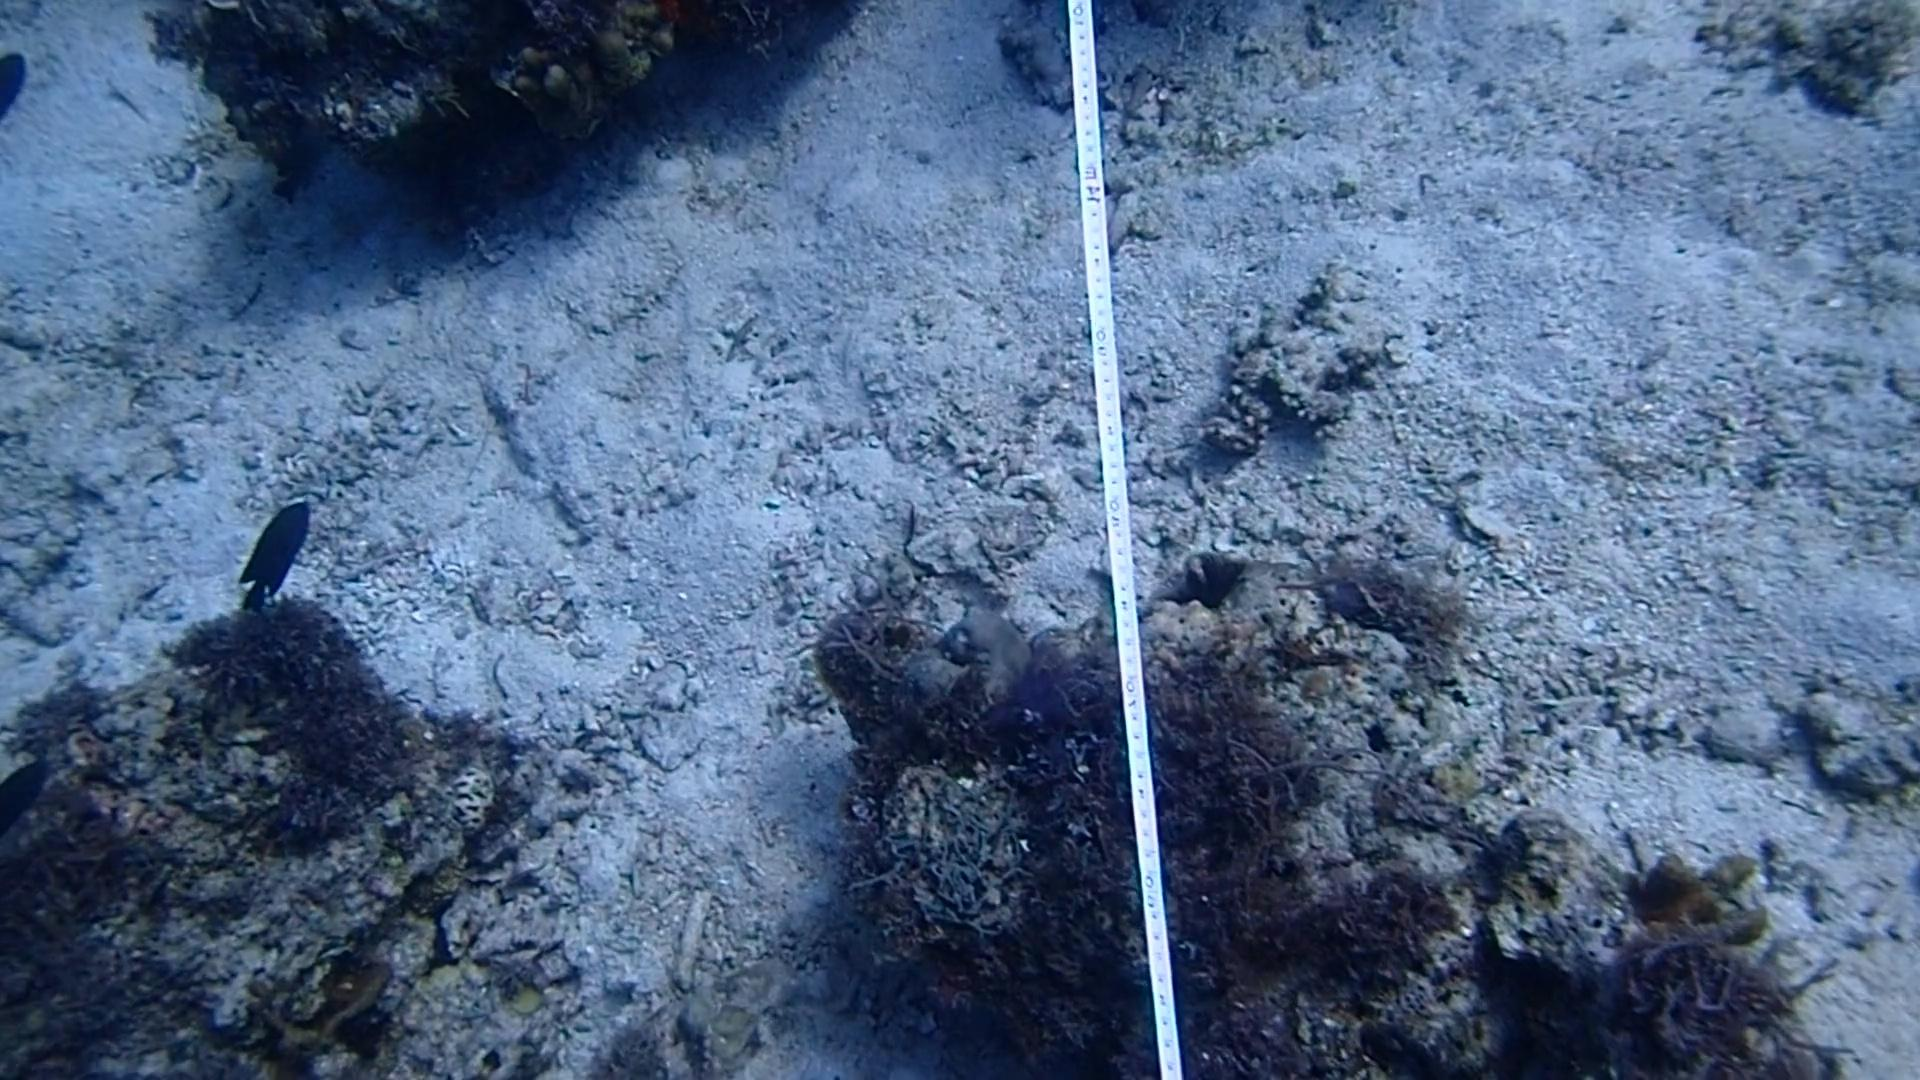Dark Fish: (237, 488, 322, 624), (257, 129, 320, 203), (0, 742, 50, 829), (0, 41, 36, 124)
